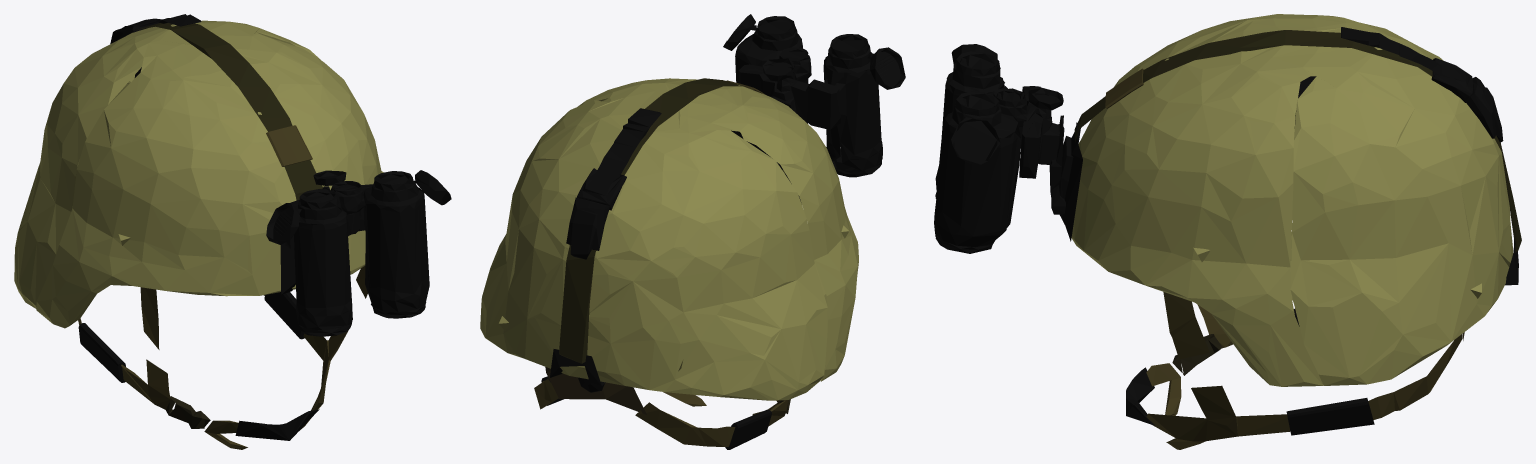
File: HelmetNVG.obj
The picture shows the model from 3 angles, left to right: view 1: azimuth 30°, elevation 25°; view 2: azimuth 150°, elevation 25°; view 3: azimuth 270°, elevation 25°; orthographic projection. The views are drawn at different scales.
Visible parts, largest first — view 1: HelmetNVG_camohelmet, HelmetNVG_dark_plastic, HelmetNVG_ziptan, HelmetNVG_stapping1, HelmetNVG_plastictan; view 2: HelmetNVG_camohelmet, HelmetNVG_dark_plastic, HelmetNVG_stapping1, HelmetNVG_ziptan, HelmetNVG_mesh_padding; view 3: HelmetNVG_camohelmet, HelmetNVG_dark_plastic, HelmetNVG_ziptan, HelmetNVG_stapping1, HelmetNVG_plastictan.
Part boxes in pixels (x1,y1,x2,y2): HelmetNVG_camohelmet: (14, 20, 383, 328); HelmetNVG_dark_plastic: (78, 14, 451, 440); HelmetNVG_ziptan: (75, 125, 367, 449); HelmetNVG_stapping1: (138, 23, 322, 200); HelmetNVG_plastictan: (166, 396, 210, 428); HelmetNVG_camohelmet: (480, 78, 858, 400); HelmetNVG_dark_plastic: (541, 14, 905, 449); HelmetNVG_stapping1: (559, 78, 748, 363); HelmetNVG_ziptan: (534, 80, 788, 446); HelmetNVG_mesh_padding: (545, 367, 646, 414); HelmetNVG_camohelmet: (1071, 14, 1513, 386); HelmetNVG_dark_plastic: (934, 27, 1518, 435); HelmetNVG_ziptan: (1105, 68, 1462, 449); HelmetNVG_stapping1: (1074, 30, 1521, 252); HelmetNVG_plastictan: (1172, 334, 1222, 375).
Bounding box in the file's own units: 0.2553 × 0.2716 × 0.3593.
